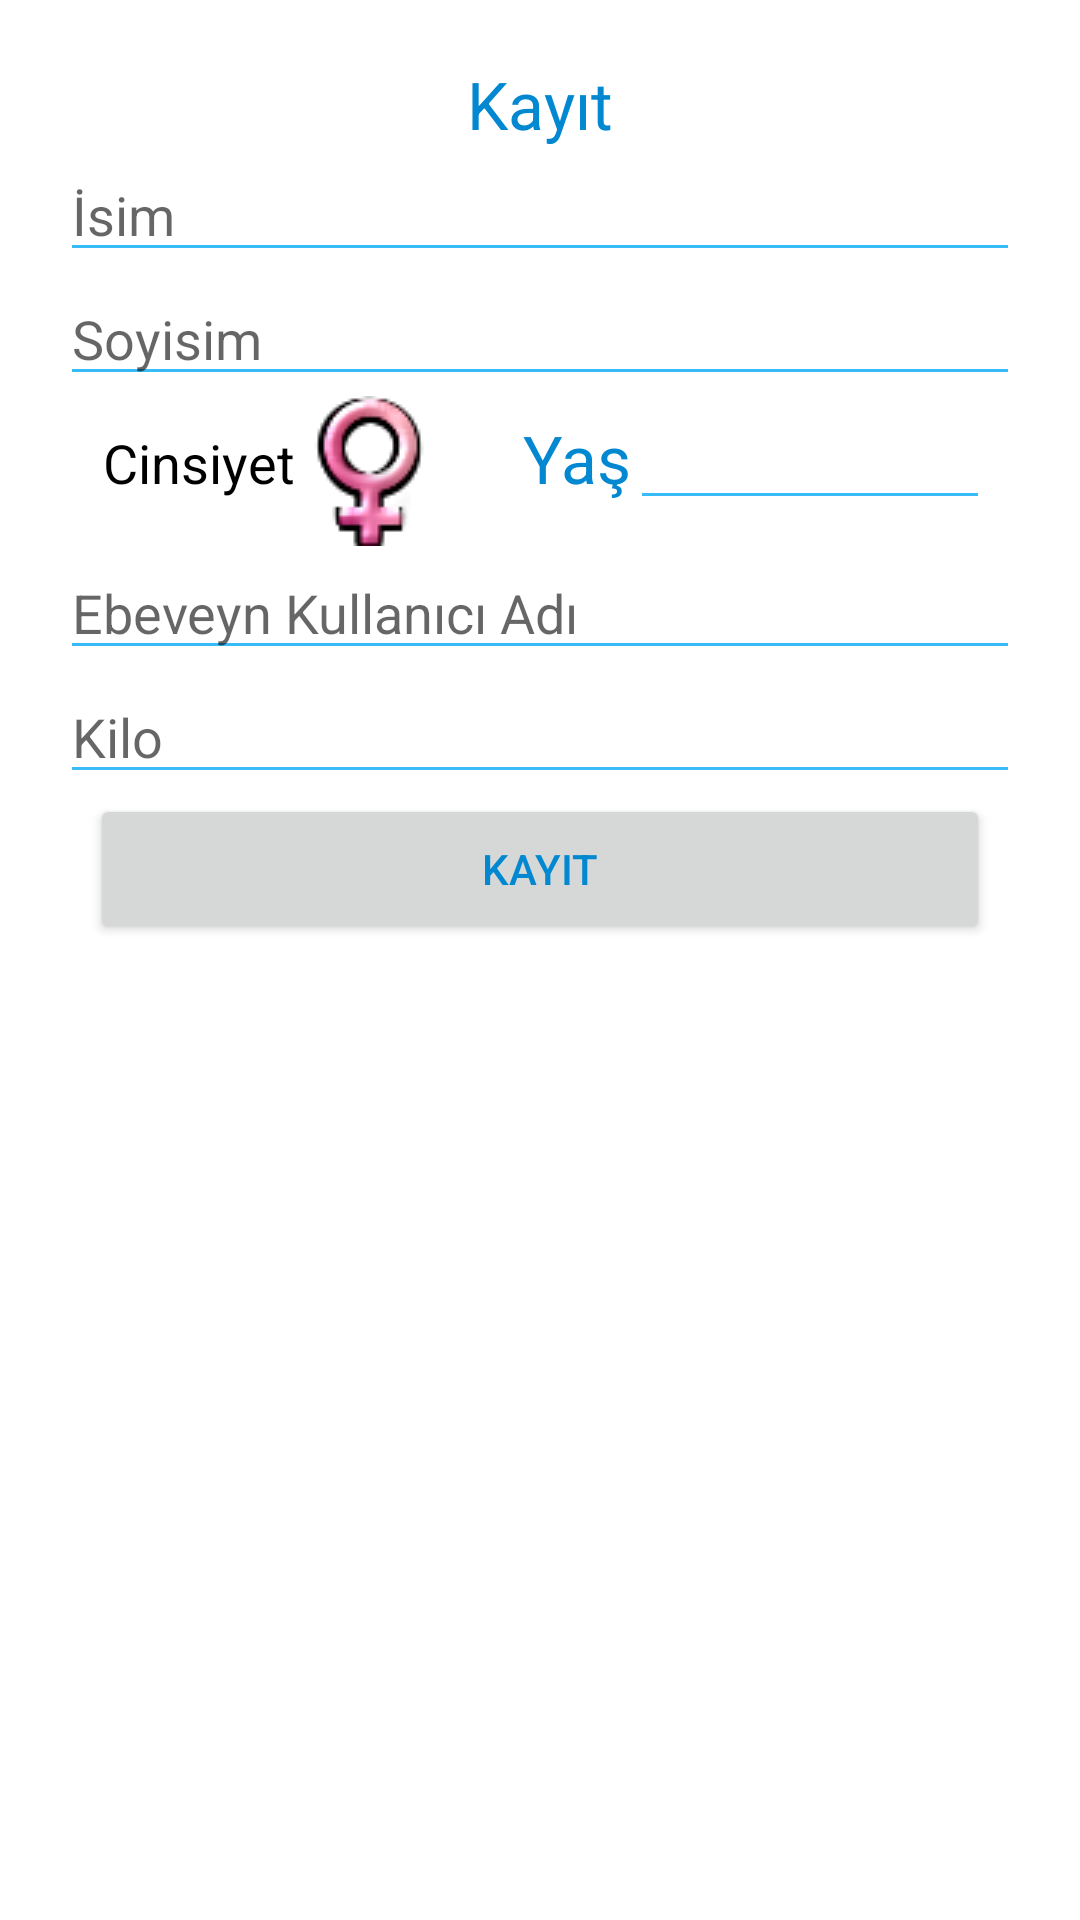

Icon bounding boxes for this 1080 x 1920 phone screenshot, format (x1, y1, x2, y2):
female: (317, 396, 422, 546)
